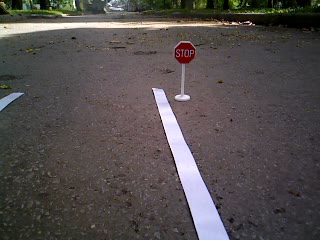Stop: (173, 38, 197, 65)
